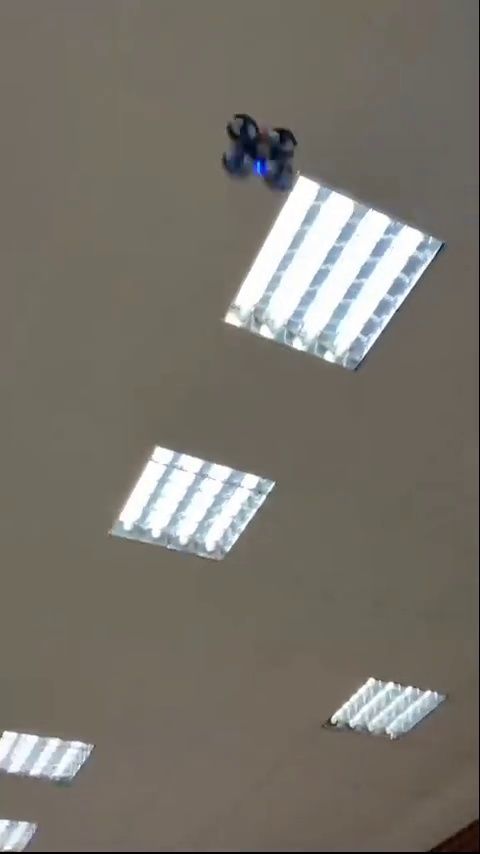drone: (220, 115, 298, 190)
